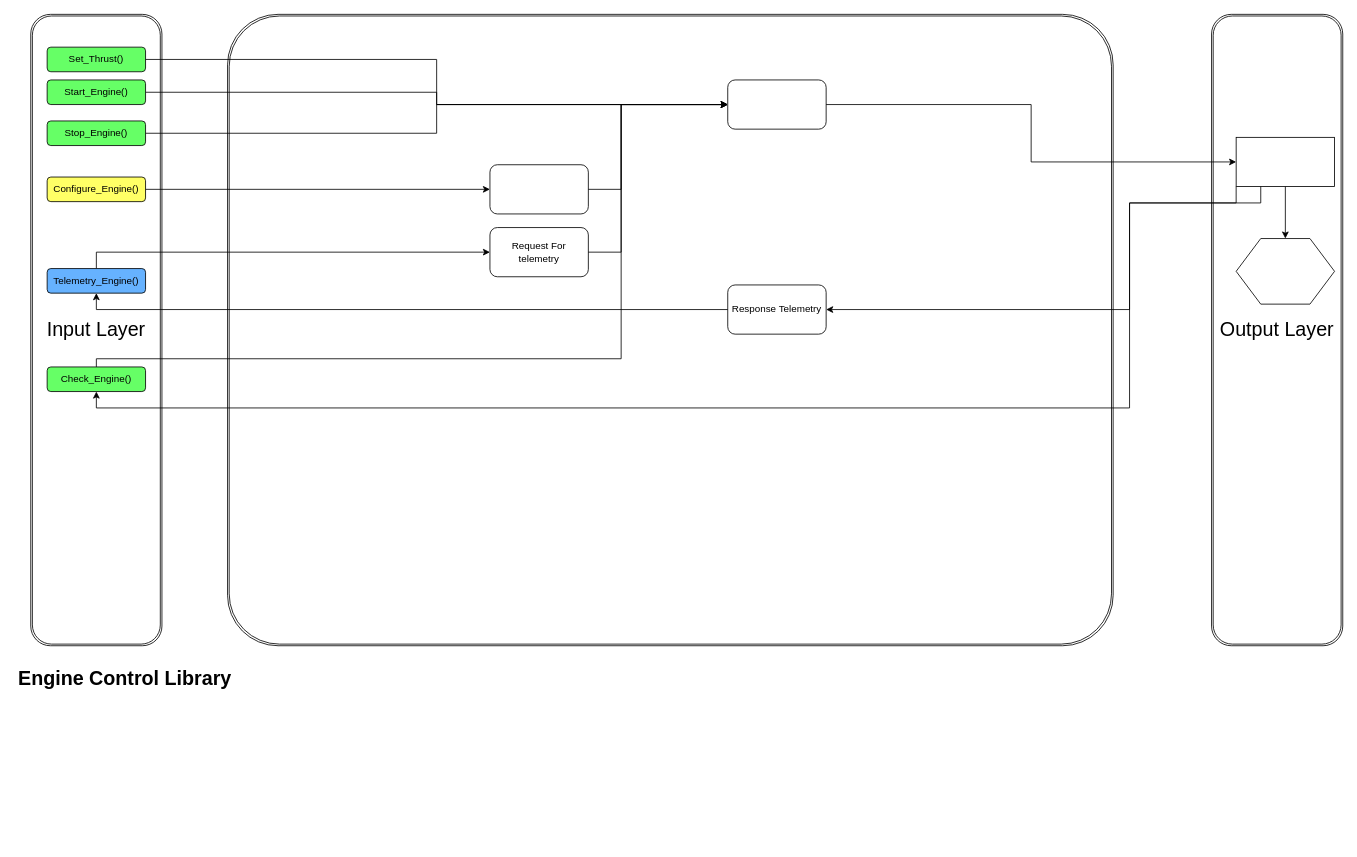
Image size: 1357x857. Some labels were removed from this diagram. Each missing label, with the box of its shape:
Configuration Generator: (489, 164, 588, 214)
ECU: (1235, 238, 1335, 304)
Logic Layer: (227, 14, 1113, 646)
Serial Comm.: (1235, 137, 1335, 187)
Serial Command Generator: (727, 79, 826, 129)
